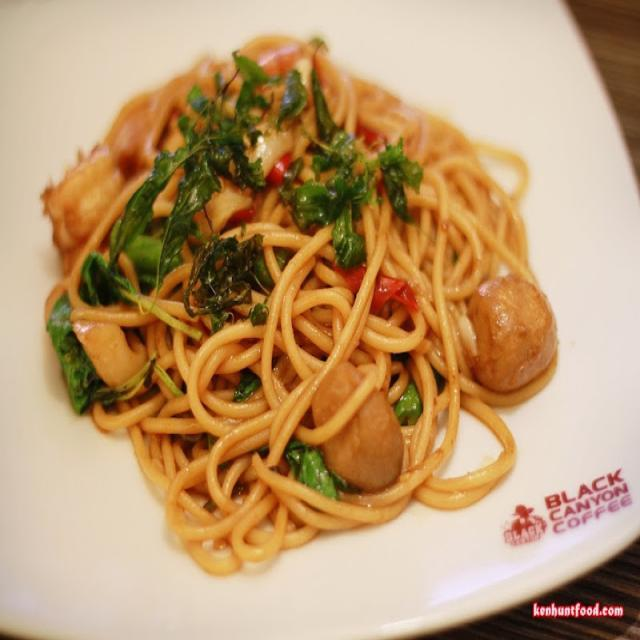cac loai rau cu: (122, 68, 281, 310), (294, 105, 434, 267), (36, 280, 114, 416), (278, 414, 349, 505)
mi ga hung que kem: (33, 31, 574, 580)
soi mi khoai lang: (124, 296, 375, 571), (396, 93, 534, 518), (68, 100, 192, 269)
thit ga: (303, 360, 419, 494), (460, 264, 560, 394)
